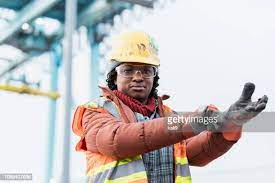Helmet: (109, 31, 166, 73)
Jacket: (70, 100, 204, 183)
gloves: (226, 84, 269, 129)
